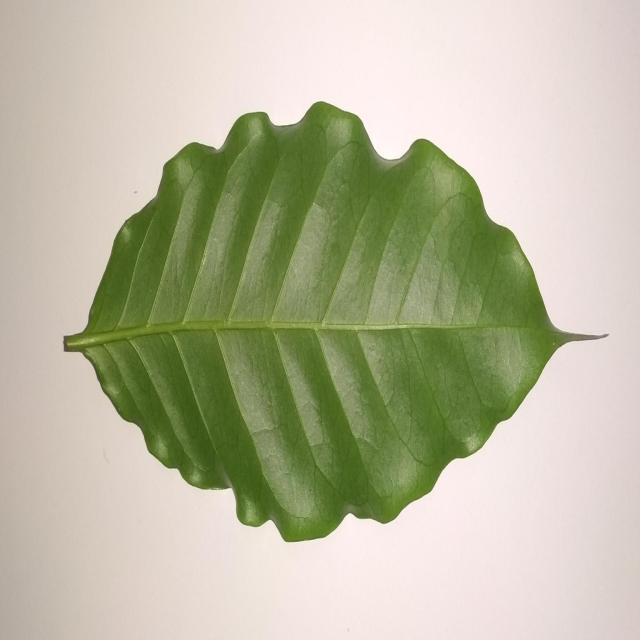Sanas: (62, 102, 608, 545)
